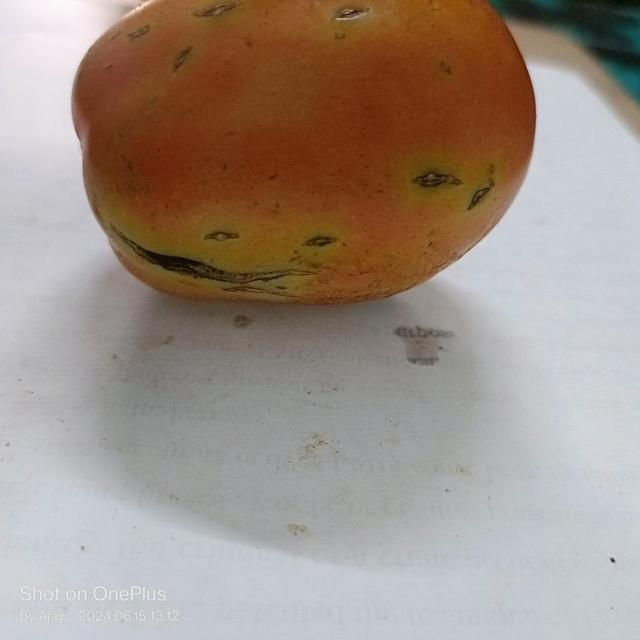Bacterial Spot Fruit: (19, 7, 324, 160)
